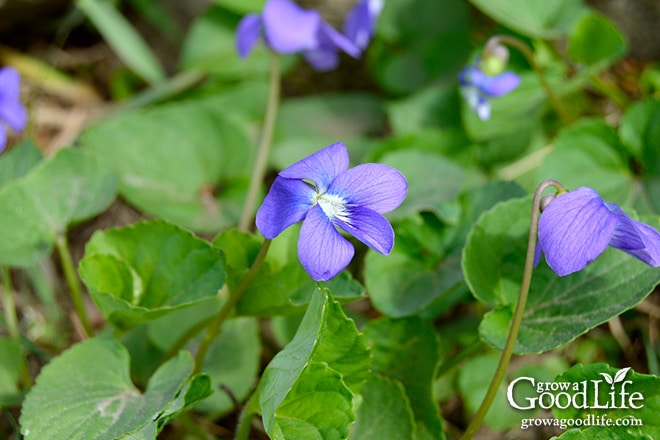violet: (243, 134, 410, 295), (520, 169, 660, 285)
